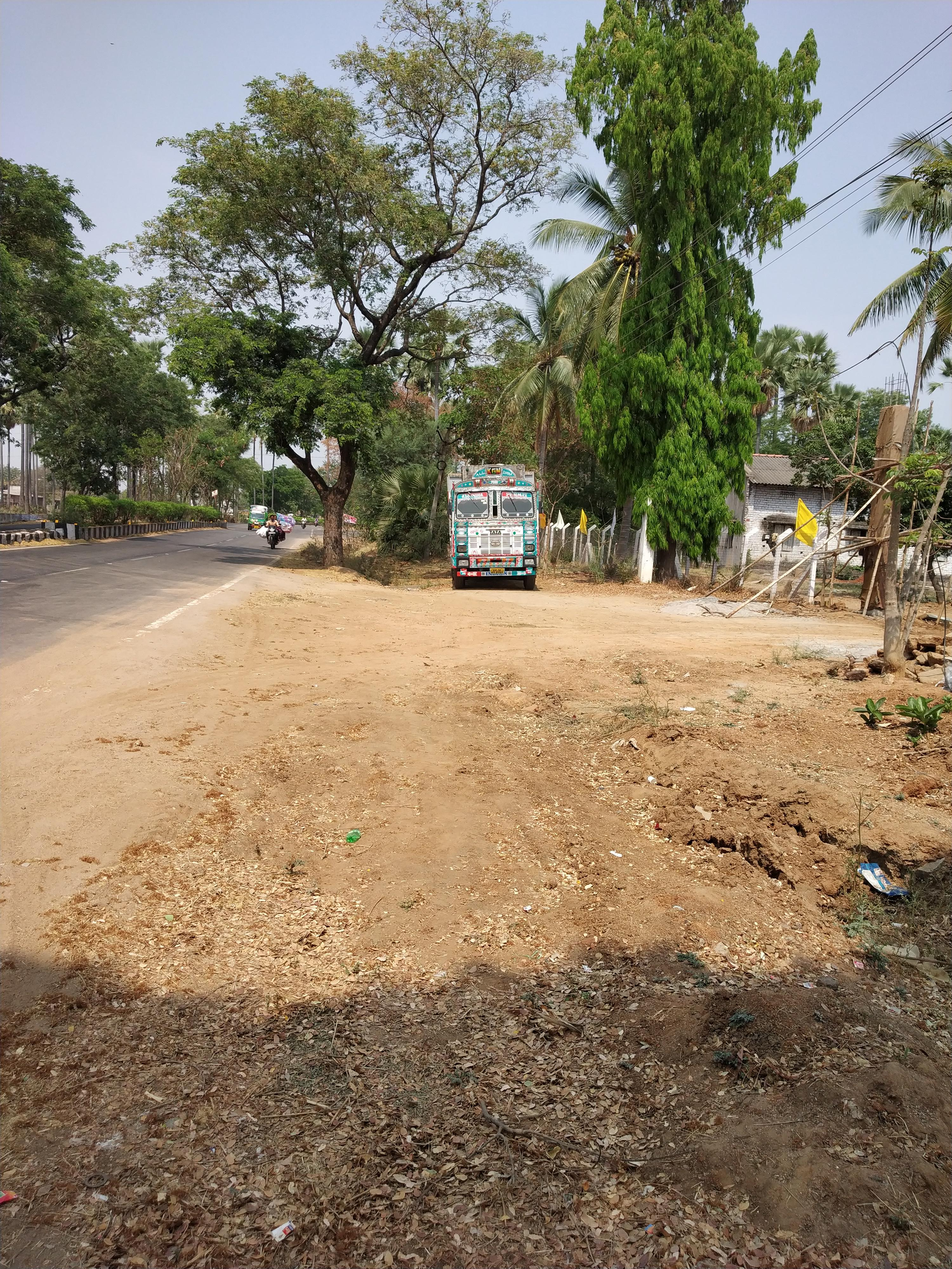non-ambulance: (382, 434, 648, 647)
